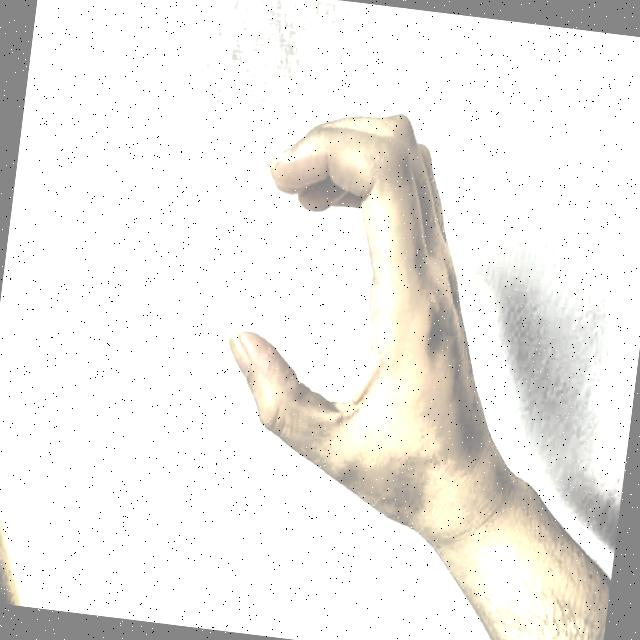A: (170, 76, 498, 584)
